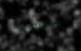four: (53, 18, 58, 29)
one: (35, 20, 40, 30)
seven: (23, 21, 28, 32), (29, 20, 34, 31)
zero: (41, 19, 46, 30), (17, 22, 22, 32), (47, 19, 52, 29)
